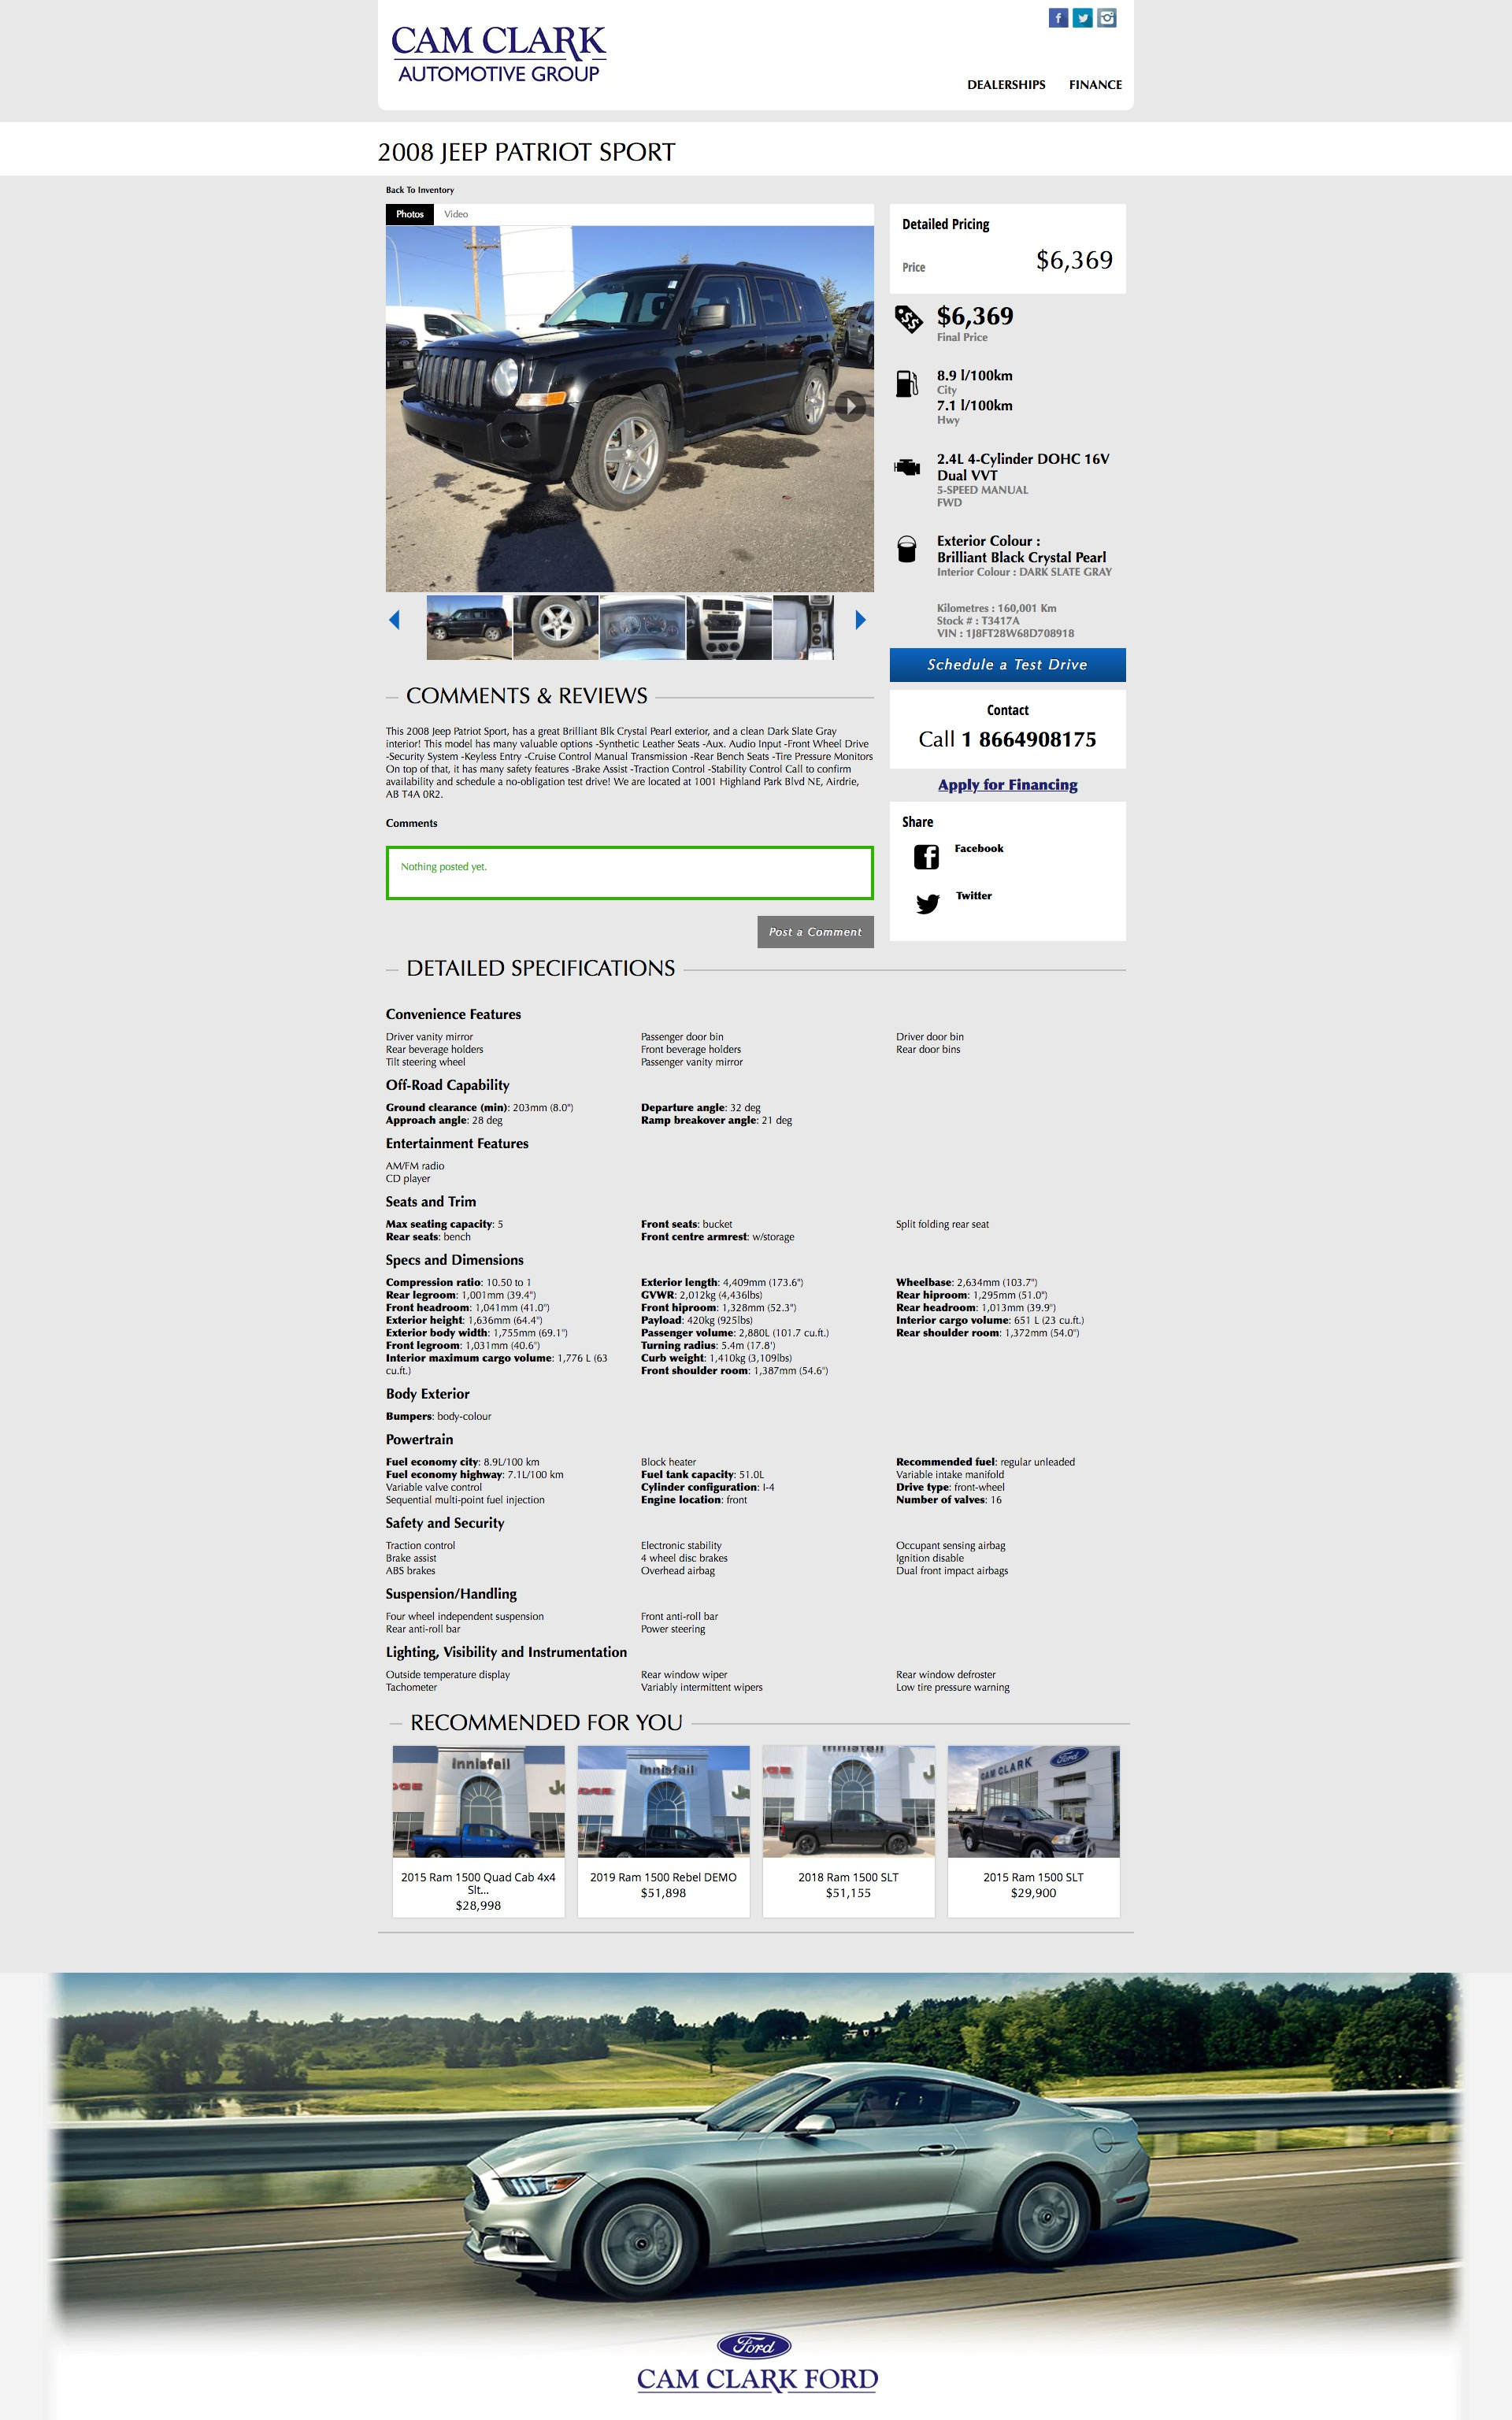car: (855, 611, 867, 632)
